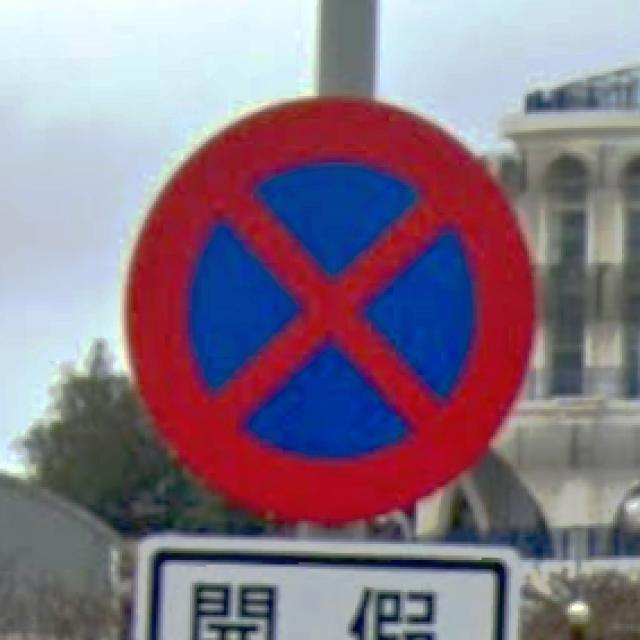nostop: (118, 89, 542, 526)
